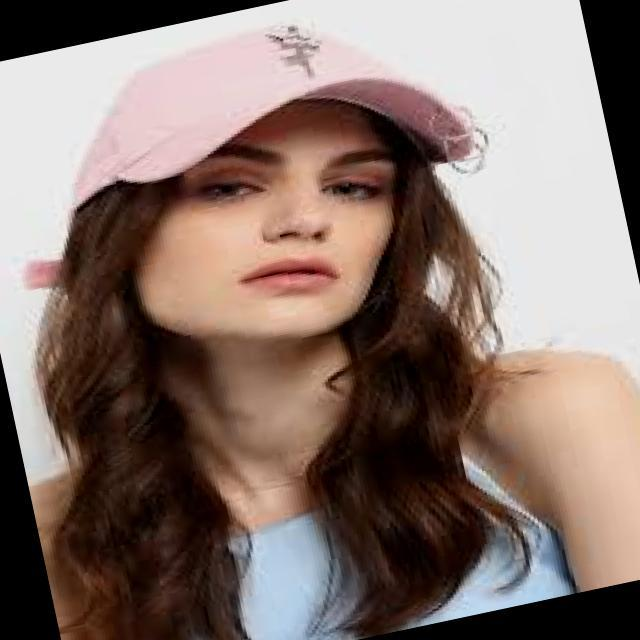cap: (2, 0, 559, 268)
